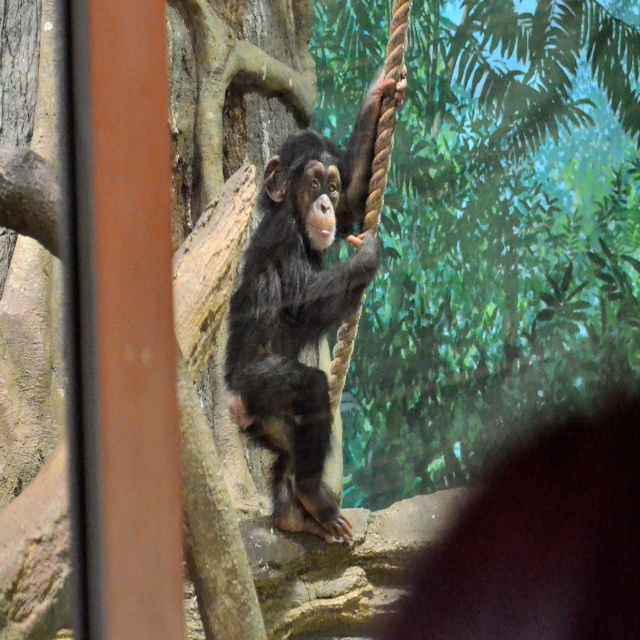Monkey: (223, 67, 406, 546)
